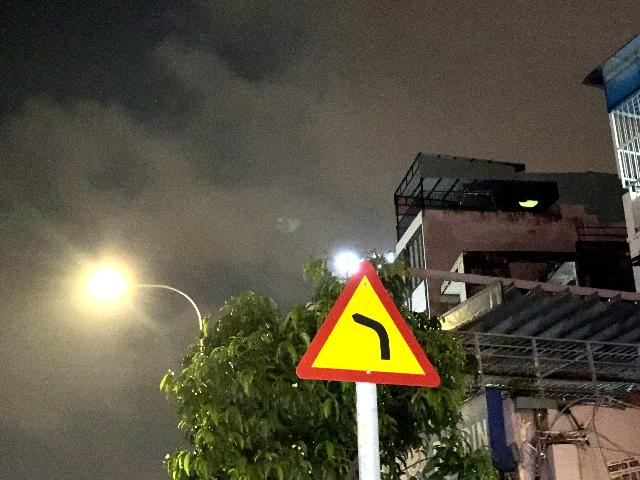cho-ngoat-nguy-hiem-ben-trai: (294, 260, 441, 389)
